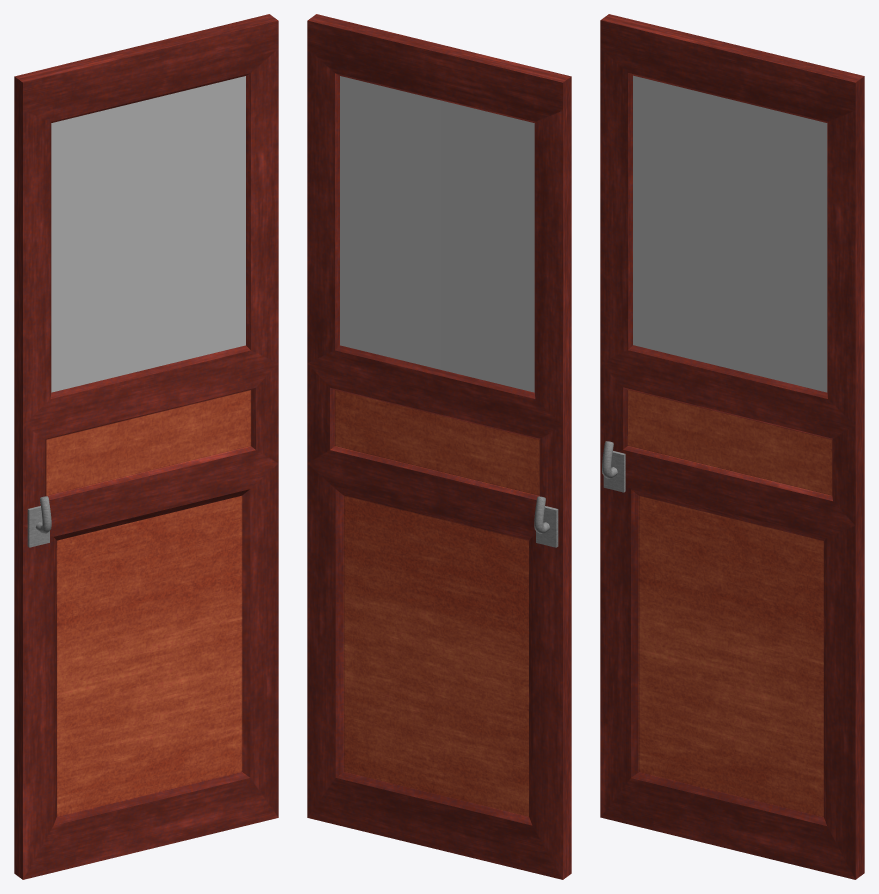
Rendered from SM_Pushing_Door.fbx.
3 views of the same model, side by side, from view 1: azimuth 30°, elevation 25°; view 2: azimuth 150°, elevation 25°; view 3: azimuth 330°, elevation 25° (orthographic).
Parts seen in each view (by area): view 1: SM_Pushing_Door; view 2: SM_Pushing_Door; view 3: SM_Pushing_Door.
Boxes of the visible parts, left/top/right/bottom form: SM_Pushing_Door: left=14, top=14, right=278, bottom=879; SM_Pushing_Door: left=307, top=14, right=571, bottom=879; SM_Pushing_Door: left=600, top=14, right=864, bottom=879.
Bounding box in the file's own units: 72.17 × 15.43 × 215.
Materials: 2 (1 with a texture image).
